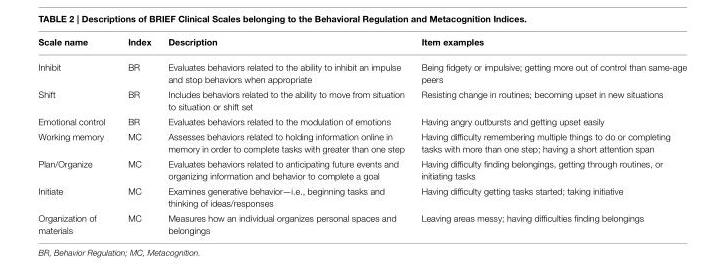table: (37, 37, 686, 234)
table column: (412, 37, 686, 234), (158, 37, 412, 234), (37, 37, 115, 234), (115, 37, 158, 234)
table column header: (37, 37, 686, 54)
table row: (37, 54, 686, 86), (37, 86, 686, 114), (37, 129, 686, 156), (37, 156, 686, 183), (37, 183, 686, 210), (37, 210, 686, 234), (37, 37, 686, 54), (37, 114, 686, 129)
